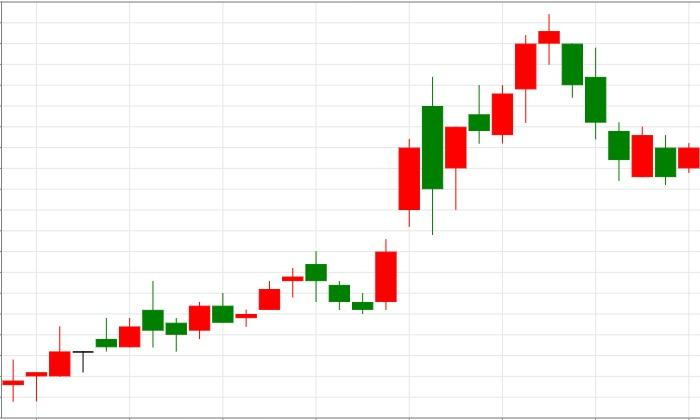evening_star_fall: (445, 14, 584, 209)
